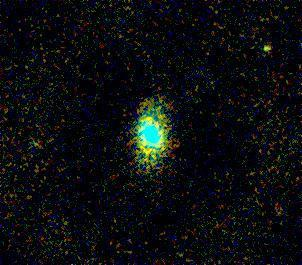star: (252, 33, 282, 63)
